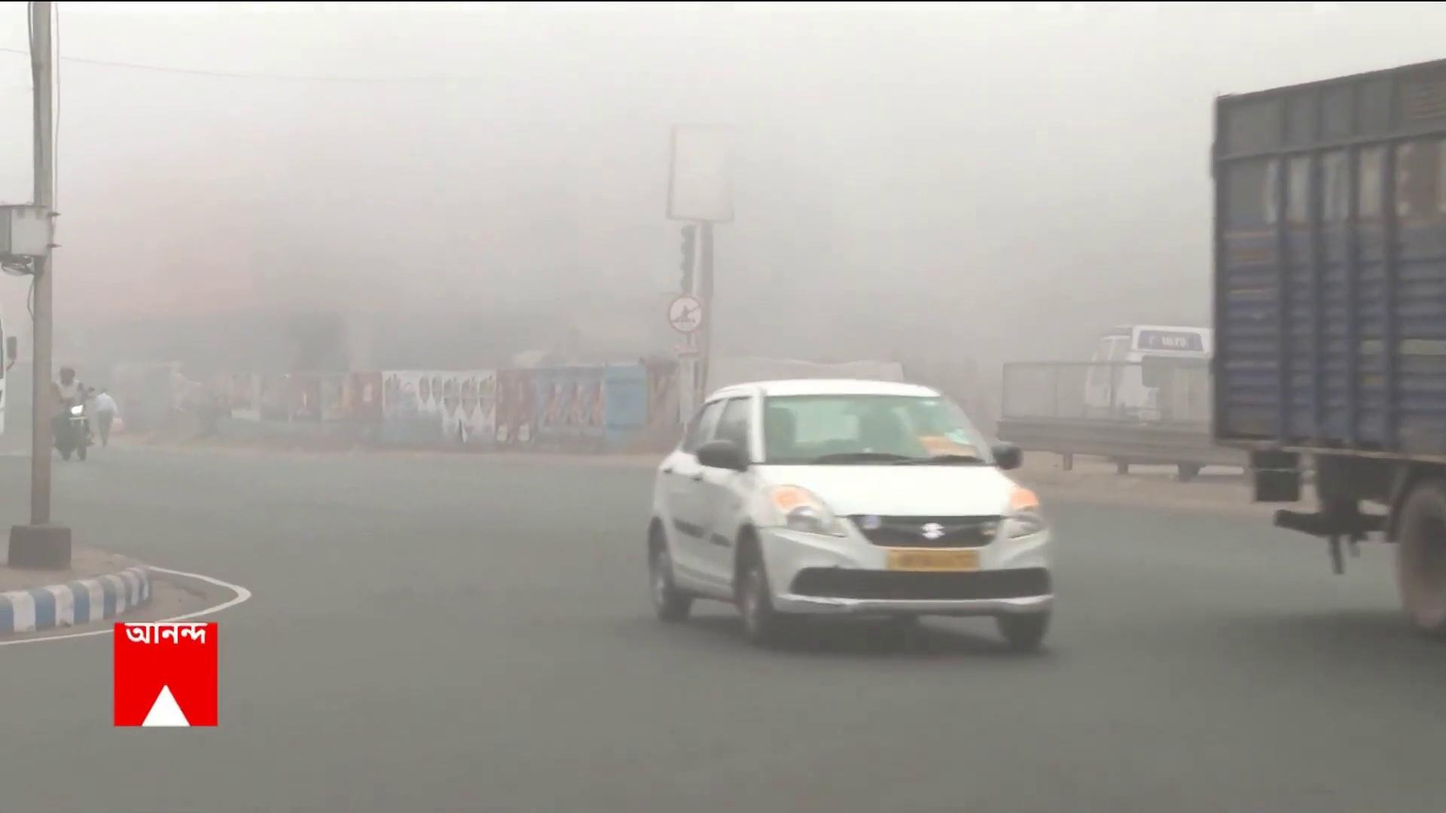Bike: (45, 360, 96, 468)
Car: (645, 375, 1055, 654)
Truck: (1205, 53, 1446, 617)
